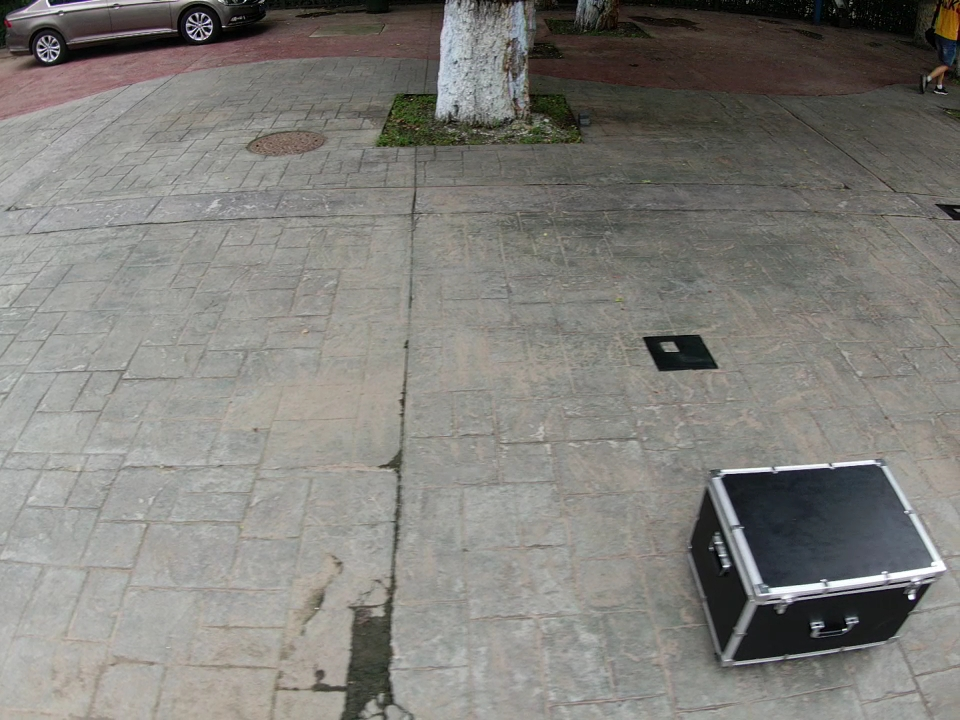box: (686, 458, 946, 667)
qrcode: (643, 335, 718, 372)
